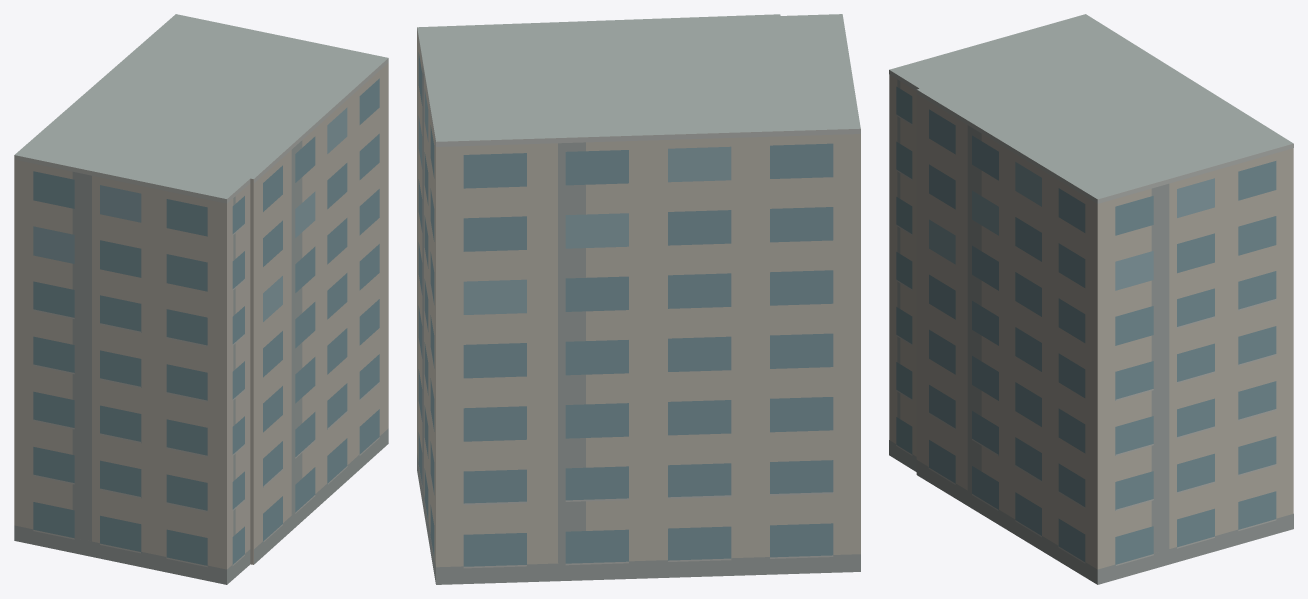
Rendered from survey-upis-32851108.glb.
3 renders of one model, left to right at view 1: azimuth 30°, elevation 25°; view 2: azimuth 150°, elevation 25°; view 3: azimuth 270°, elevation 25°, orthographic. The views are drawn at different scales.
Parts seen in each view (by area): view 1: survey-upis-32851108.tmp; view 2: survey-upis-32851108.tmp; view 3: survey-upis-32851108.tmp.
Part boxes in pixels (x1,y1,x2,y2): survey-upis-32851108.tmp: [14, 14, 388, 584]; survey-upis-32851108.tmp: [417, 14, 860, 584]; survey-upis-32851108.tmp: [889, 14, 1293, 584].
Bounding box in the file's own units: 21.44 × 20.77 × 19.77.
